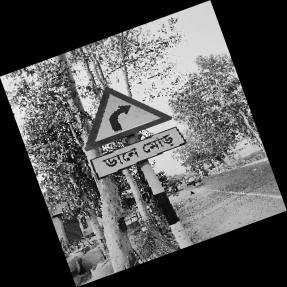Right-turn: (84, 87, 186, 182)
